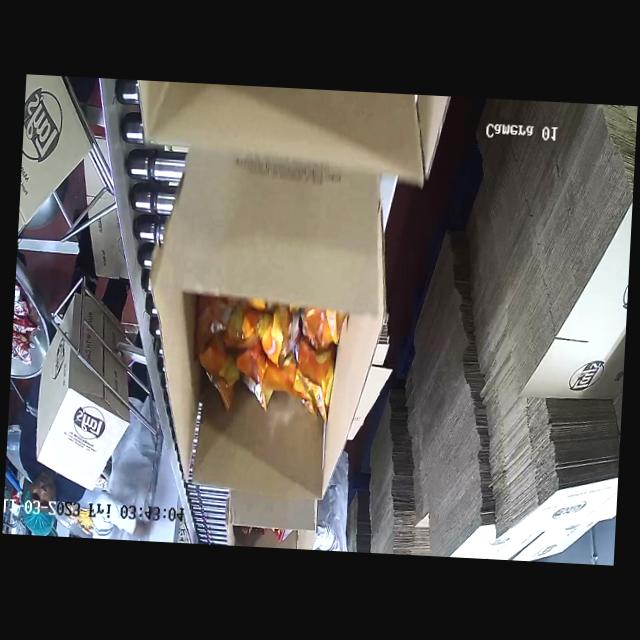cheese: (192, 287, 362, 429)
